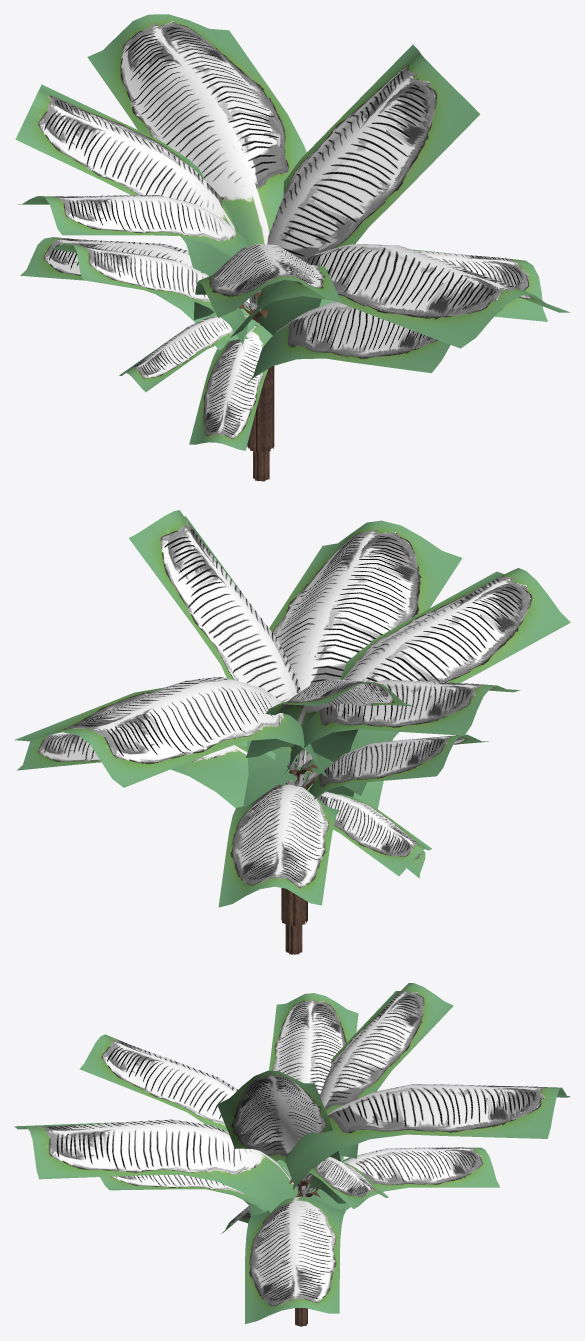
The model's file is SM_jungle_02.fbx.
3 views of the same model, one above another, from view 1: azimuth 30°, elevation 25°; view 2: azimuth 150°, elevation 25°; view 3: azimuth 270°, elevation 25° (orthographic). The views are drawn at different scales.
Visible parts, largest first — view 1: SM_jungle_02_LOD0; view 2: SM_jungle_02_LOD0; view 3: SM_jungle_02_LOD0.
Part boxes in pixels (bbox=[...]): SM_jungle_02_LOD0: bbox=[15, 14, 570, 481]; SM_jungle_02_LOD0: bbox=[14, 510, 570, 954]; SM_jungle_02_LOD0: bbox=[14, 983, 570, 1326].
Size of the model in its own units: 250 by 323 by 198.
2 materials, 2 textured.
